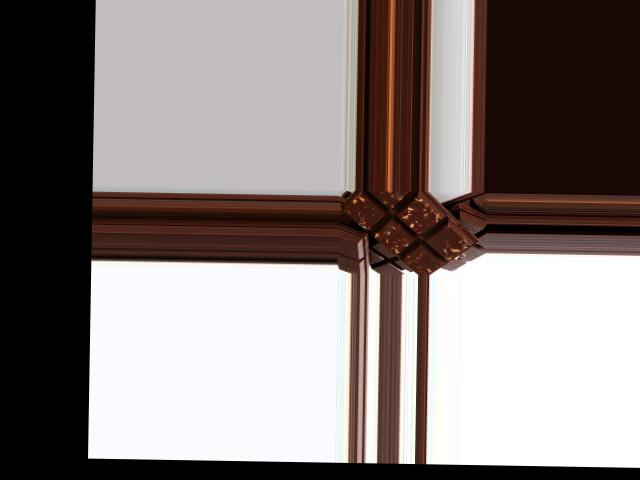chocolate: (341, 189, 469, 274)
